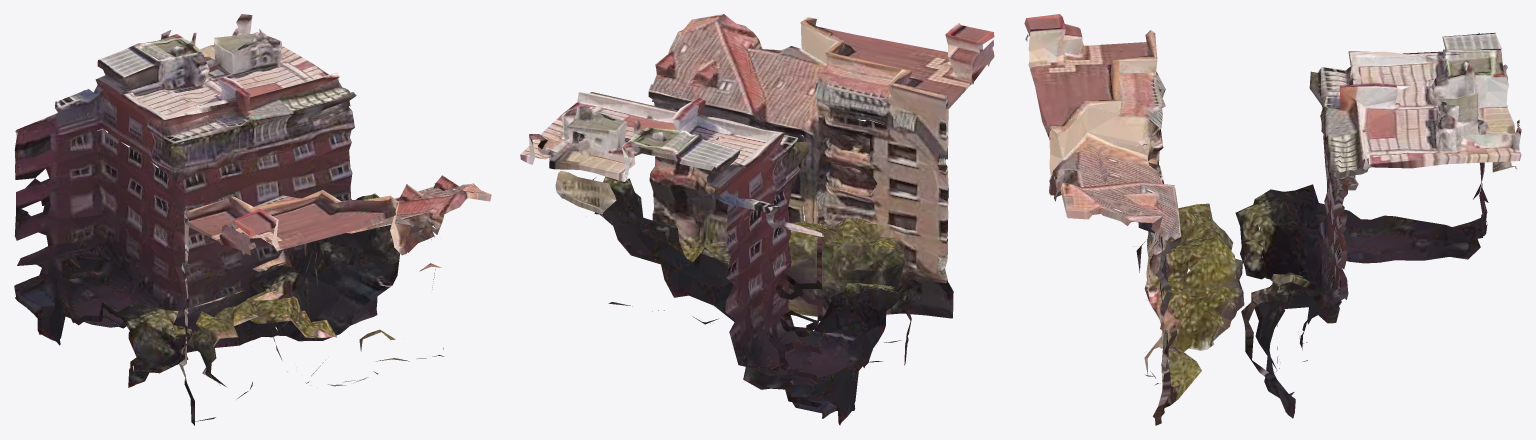
3 renders of one model, left to right at view 1: azimuth 30°, elevation 25°; view 2: azimuth 150°, elevation 25°; view 3: azimuth 270°, elevation 25°, orthographic. The views are drawn at different scales.
Visible parts, largest first — view 1: Mesh_0; view 2: Mesh_0; view 3: Mesh_0.
Boxes of the visible parts, <box> form: Mesh_0: <box>14,14,491,425</box>; Mesh_0: <box>520,14,994,425</box>; Mesh_0: <box>1024,14,1521,425</box>.
Size of the model in its own units: 33.29 by 27.14 by 41.37.
Materials: 1 (1 with a texture image).
